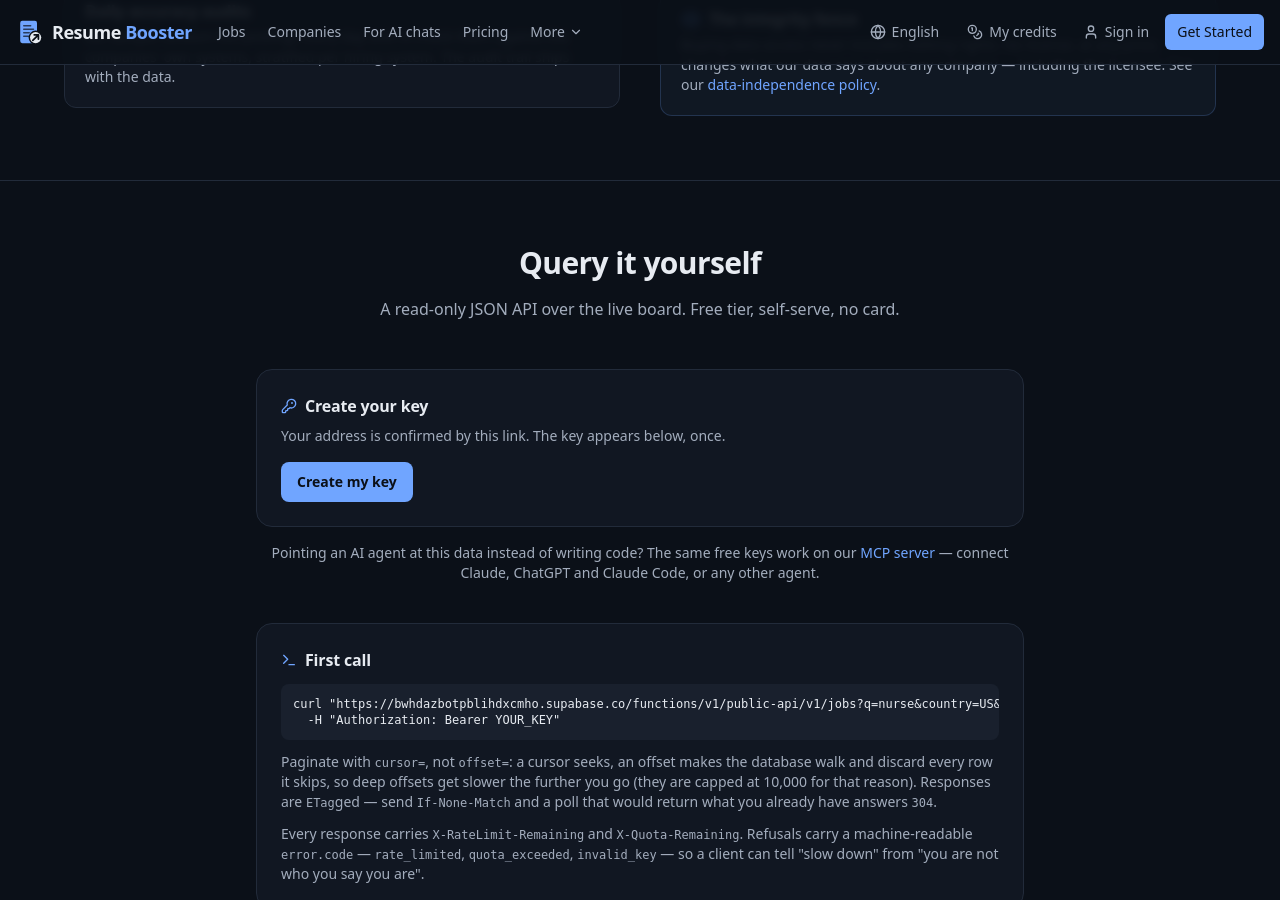
Test: /data-api: a key needs the mailbox, and the link needs a click › the link's page waits for the button, then shows the key once and forgets the token
(page scrolled)
Click the button "Create my key".
click(347, 482)  # box [281,462,413,502]
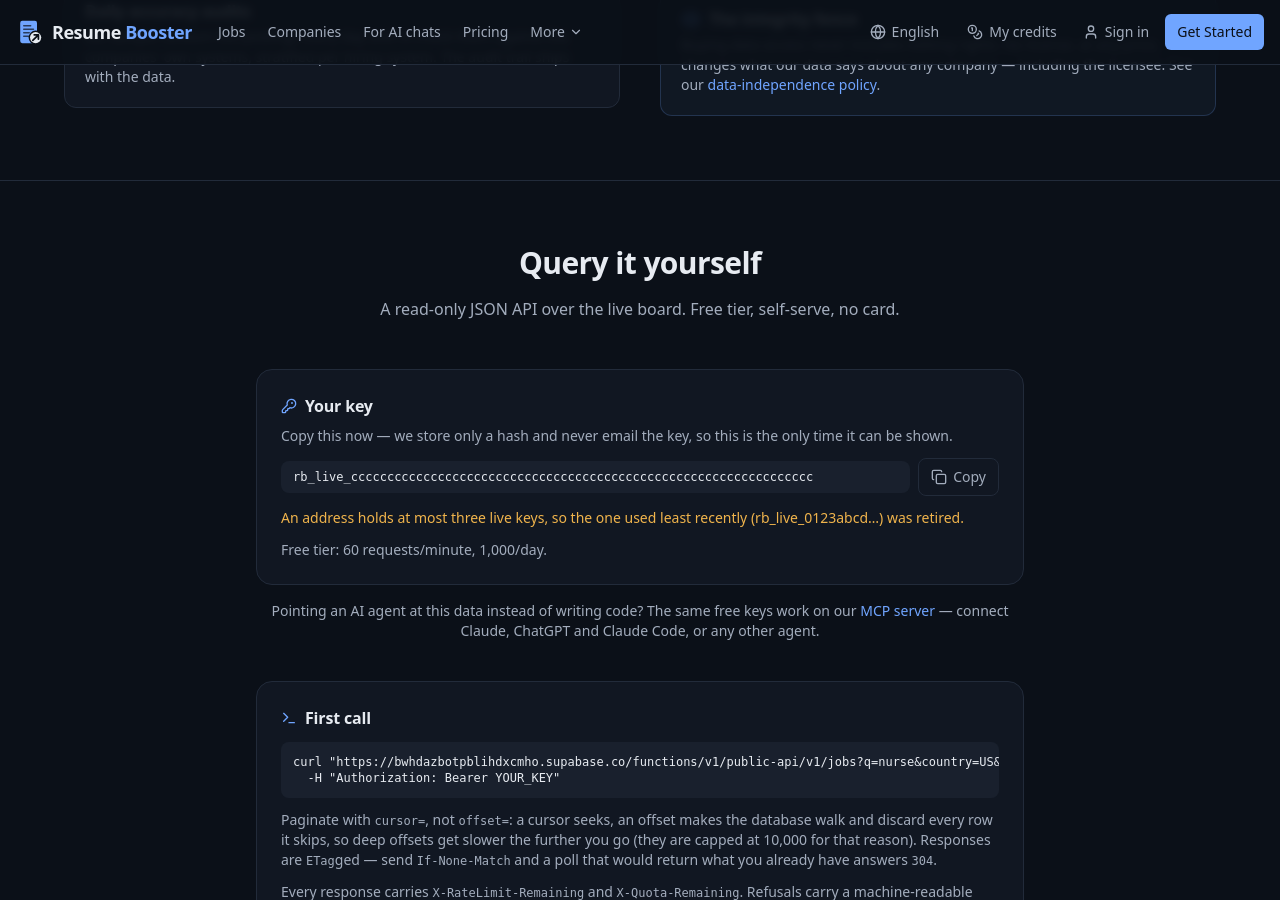
Check: the text "Free tier: 60 requests/minute, 1,000/day." is shown, box [281,540,547,559]
Check: the text "rb_live_0123abcd…" is shown, box [755,508,879,527]
